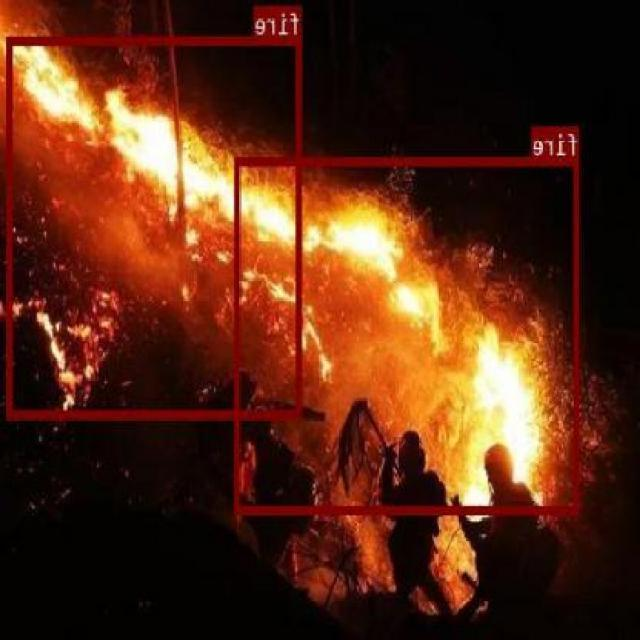Fire: (236, 156, 581, 513), (9, 36, 302, 416)
